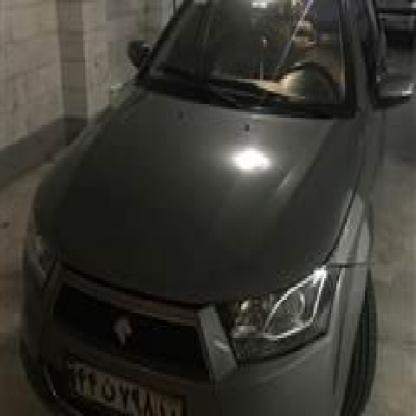Car: (15, 0, 387, 416)
